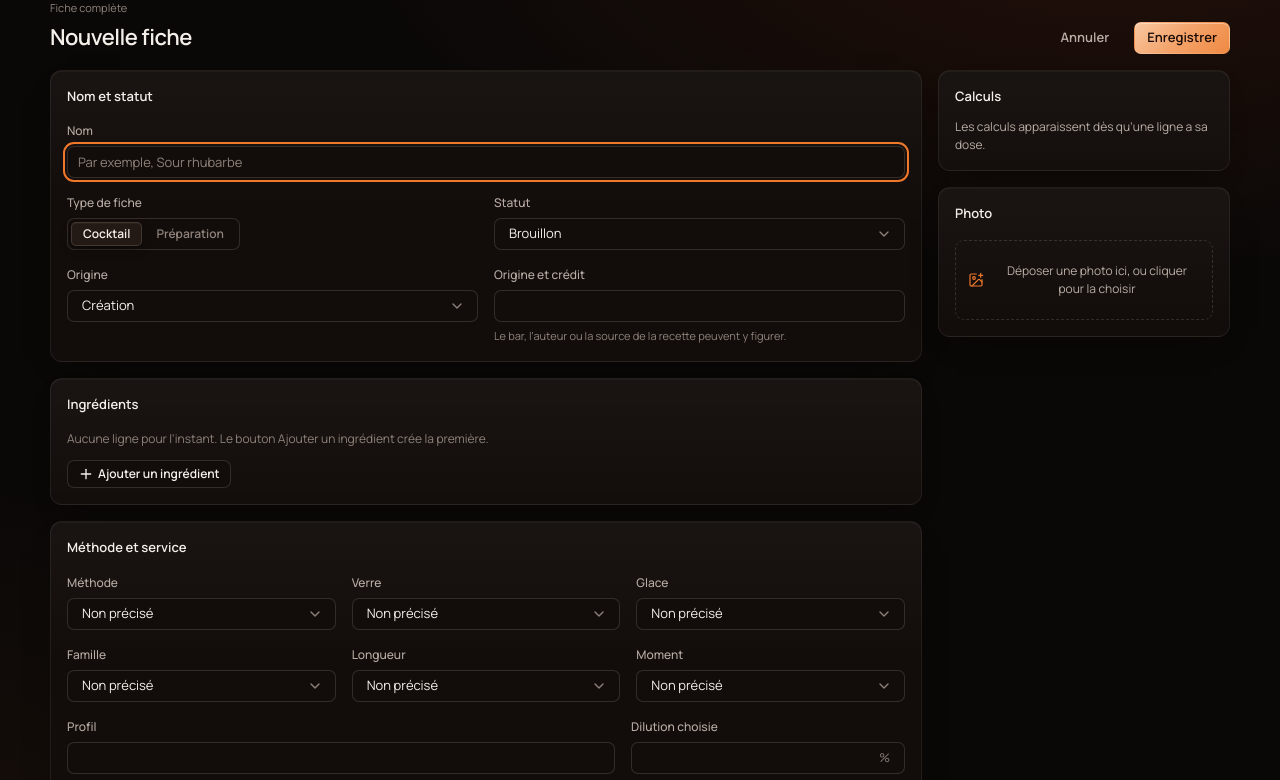
Test: RecipeEditorPage › asks for a category before creating an ingredient
The image size is (1280, 780).
Click the button "Ajouter un ingrédient" at (149, 474), box [67,460,231,488]
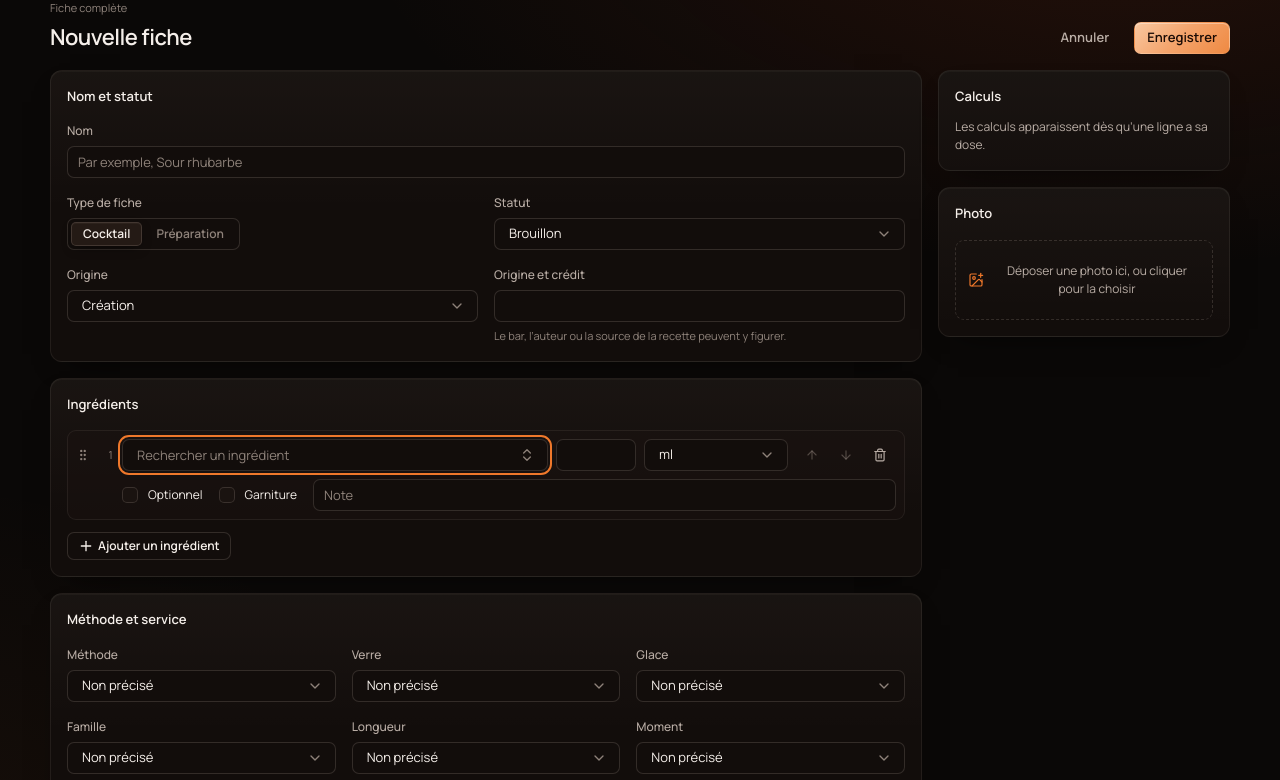
Type "Orgeat" into the dropdown with placeholder "Rechercher un ingrédient" at (324, 455), box [137,440,511,470]
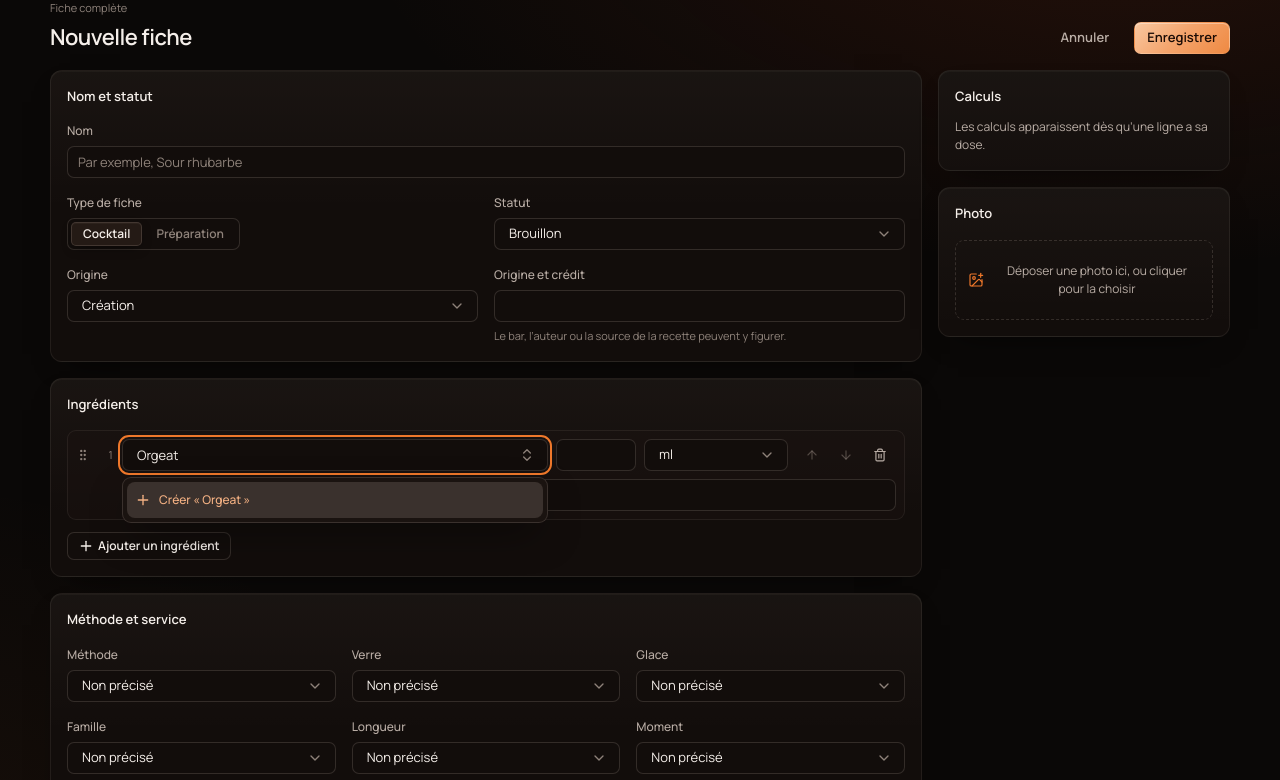
Click the option "Créer « Orgeat »" at (205, 500), box [127,482,543,518]
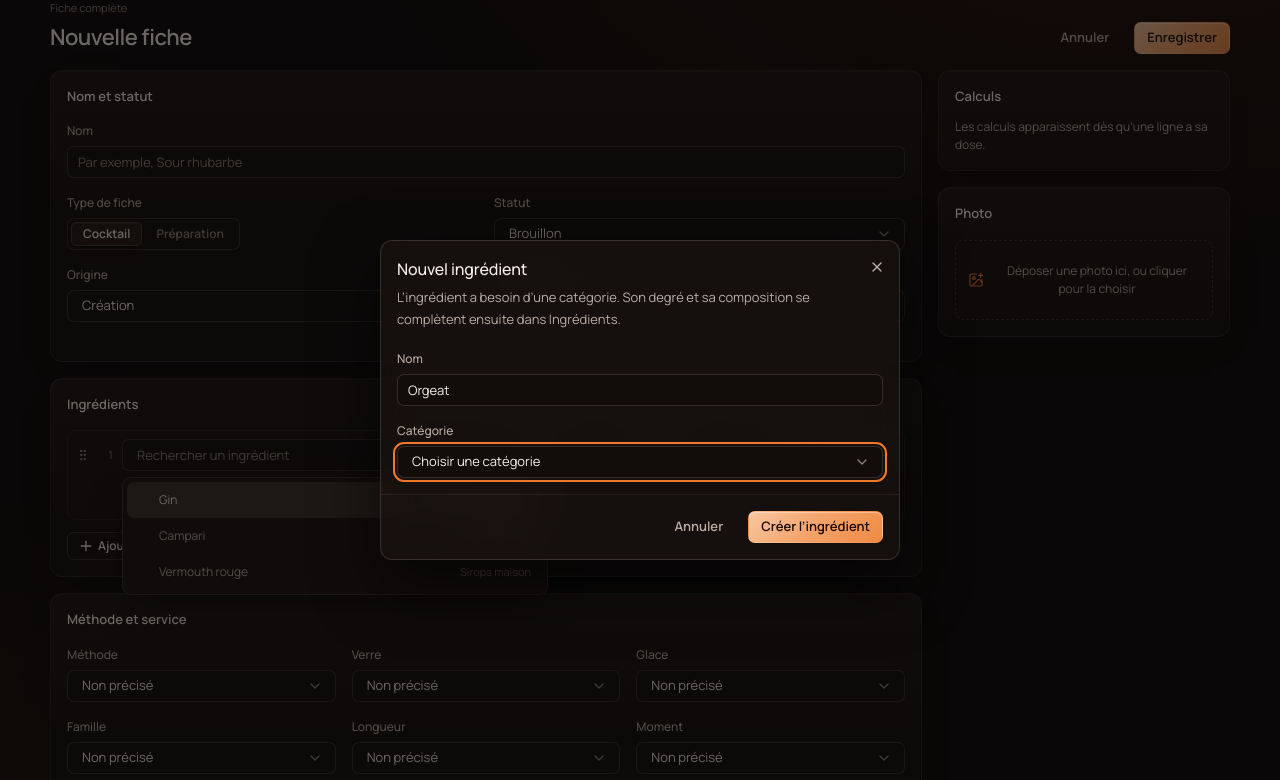
Click the button "Créer l’ingrédient" at (816, 527), box [748,511,883,543]
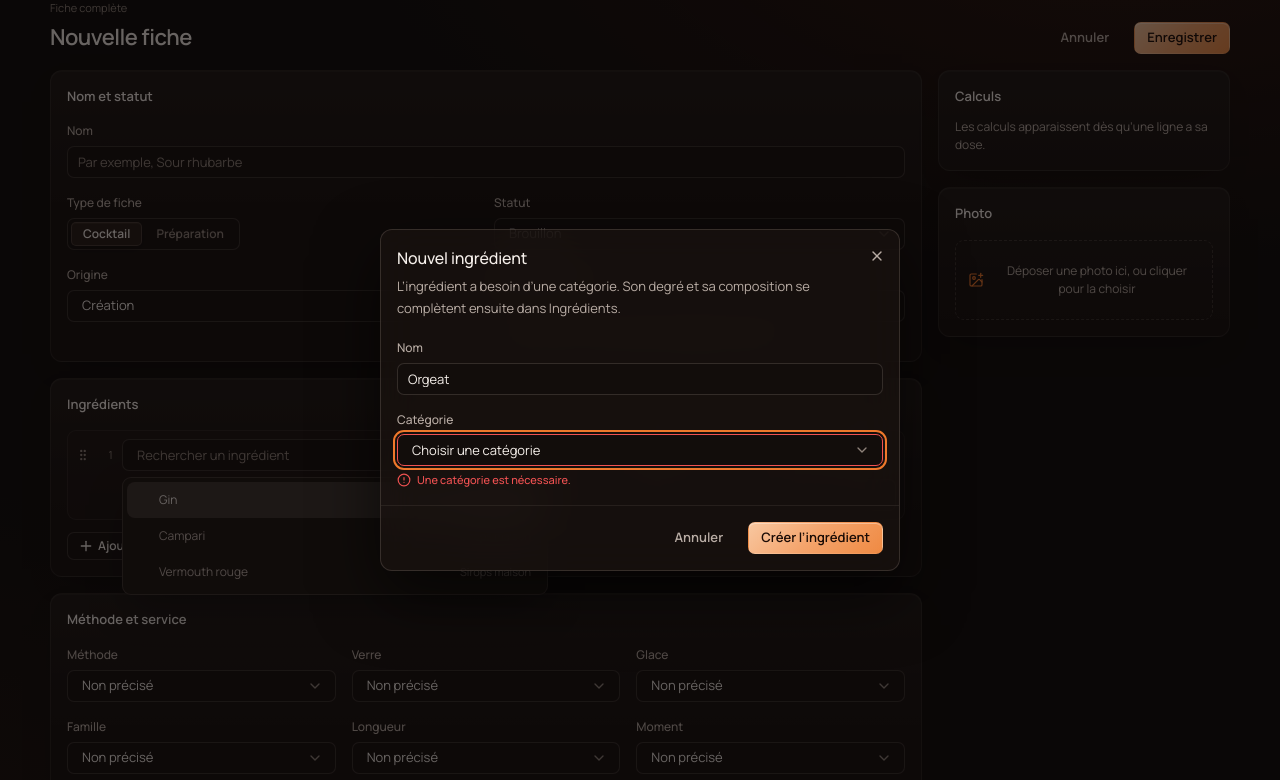
Check: the text "Une catégorie est nécessaire." is shown, box [417,472,571,489]
